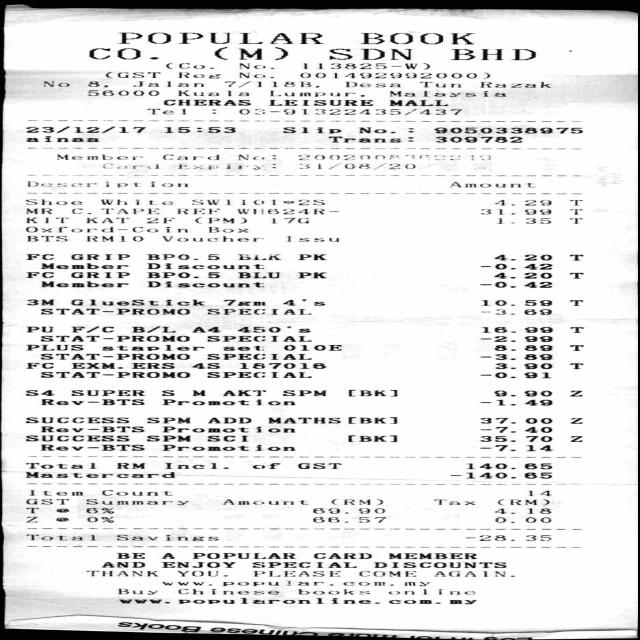text: (116, 32, 323, 44), (177, 598, 475, 604), (235, 108, 462, 115), (359, 32, 473, 44), (298, 72, 489, 79), (296, 154, 492, 160), (26, 181, 189, 188), (24, 226, 187, 233), (39, 308, 189, 315), (39, 335, 189, 342), (39, 353, 189, 360), (432, 127, 581, 134), (222, 581, 428, 586), (214, 46, 286, 60), (449, 49, 535, 60), (69, 299, 203, 306), (160, 426, 294, 433), (161, 444, 294, 451), (329, 49, 411, 60), (39, 372, 189, 378), (24, 472, 174, 478), (268, 417, 396, 424), (302, 63, 428, 70), (88, 48, 157, 60), (25, 126, 143, 133), (115, 534, 218, 542), (298, 163, 414, 170), (146, 281, 262, 288), (161, 399, 294, 405), (191, 199, 323, 205), (373, 562, 505, 568), (24, 435, 128, 442), (207, 308, 310, 315), (40, 426, 143, 433), (101, 344, 203, 351), (41, 444, 143, 451), (449, 472, 551, 479), (176, 588, 278, 595), (388, 91, 504, 97), (146, 263, 262, 269), (176, 163, 274, 170), (268, 90, 364, 97), (223, 81, 318, 88), (267, 100, 372, 106), (24, 417, 128, 423), (190, 553, 294, 559), (251, 562, 355, 568), (207, 336, 310, 342), (207, 354, 310, 360), (207, 372, 310, 378), (84, 499, 187, 505), (236, 208, 338, 214), (41, 399, 143, 405), (163, 99, 250, 106), (434, 136, 521, 143), (40, 281, 127, 288), (161, 236, 262, 242), (55, 154, 141, 161), (449, 181, 534, 188), (328, 136, 412, 143), (480, 444, 552, 452), (39, 263, 127, 269), (388, 553, 476, 559), (252, 570, 339, 576), (387, 589, 474, 595), (238, 363, 324, 369), (465, 463, 551, 469), (236, 326, 309, 333), (223, 499, 307, 505), (86, 570, 158, 577), (480, 399, 551, 406), (480, 417, 551, 424), (24, 462, 95, 469), (25, 534, 94, 541), (434, 571, 512, 577), (24, 136, 98, 142), (70, 390, 144, 396), (161, 562, 234, 568), (130, 81, 202, 87), (478, 82, 550, 88), (176, 90, 248, 96), (100, 199, 172, 205), (146, 254, 218, 260), (146, 272, 218, 278), (479, 354, 551, 360), (478, 372, 550, 378), (312, 517, 384, 523), (87, 90, 158, 96), (163, 127, 234, 133), (480, 327, 551, 333), (480, 336, 551, 342), (480, 436, 551, 442), (100, 490, 171, 496), (297, 588, 368, 594), (480, 209, 550, 215), (480, 309, 550, 315), (481, 300, 550, 306), (282, 127, 340, 134), (492, 254, 550, 261), (493, 272, 551, 279), (492, 390, 550, 397), (312, 552, 370, 559), (25, 344, 82, 351), (164, 62, 213, 70), (494, 199, 550, 206), (86, 235, 142, 242), (98, 163, 162, 169), (163, 463, 227, 469), (345, 81, 399, 88), (193, 217, 246, 224), (388, 100, 448, 106), (176, 570, 226, 577), (70, 254, 128, 260), (70, 272, 128, 278), (493, 345, 551, 351), (24, 199, 81, 205), (494, 363, 551, 369), (493, 508, 550, 514), (358, 571, 415, 577), (284, 344, 340, 350), (348, 389, 396, 396), (348, 435, 396, 442), (494, 517, 550, 523), (105, 72, 159, 78), (358, 127, 412, 133), (163, 154, 217, 160), (496, 218, 550, 224), (105, 208, 158, 214), (329, 499, 382, 505), (286, 236, 338, 242), (70, 363, 122, 369), (29, 490, 81, 496), (130, 326, 174, 333), (146, 417, 190, 424), (146, 435, 190, 442), (497, 499, 548, 505), (207, 417, 250, 424), (282, 299, 324, 306), (71, 326, 113, 333), (178, 72, 219, 79), (419, 81, 460, 88), (206, 226, 247, 233), (206, 435, 247, 442), (26, 235, 66, 242), (116, 588, 156, 595), (146, 108, 184, 115), (236, 254, 280, 260), (220, 390, 264, 396), (100, 562, 144, 568), (117, 599, 169, 604), (25, 498, 68, 504), (25, 217, 67, 223), (478, 281, 514, 288), (222, 300, 264, 306), (298, 463, 340, 469), (177, 208, 218, 214), (86, 218, 127, 224), (237, 272, 278, 278), (433, 499, 474, 505), (464, 535, 505, 541), (134, 363, 174, 369), (480, 263, 514, 270), (480, 426, 514, 433), (236, 154, 275, 160), (223, 345, 262, 351), (270, 218, 308, 224), (281, 391, 325, 396), (312, 508, 348, 514), (190, 326, 220, 333), (239, 63, 273, 69), (239, 72, 273, 78), (116, 462, 144, 469), (85, 507, 113, 514), (116, 552, 144, 559), (162, 582, 210, 586), (146, 217, 173, 224), (525, 263, 551, 270), (26, 326, 52, 333), (26, 362, 52, 369), (86, 516, 112, 523), (296, 272, 326, 278), (296, 254, 325, 260), (25, 254, 53, 260), (25, 272, 53, 278), (26, 300, 54, 306), (191, 363, 219, 369), (25, 390, 53, 396), (527, 426, 551, 433), (251, 463, 279, 469), (357, 508, 384, 514), (42, 81, 68, 87), (24, 208, 50, 214), (524, 535, 550, 541), (527, 282, 551, 288), (528, 490, 550, 496), (87, 81, 107, 87), (71, 208, 90, 214), (160, 552, 174, 559), (569, 254, 582, 261), (569, 272, 582, 279), (24, 516, 37, 523), (568, 327, 583, 333), (568, 345, 583, 351), (569, 300, 582, 306), (569, 363, 582, 369), (160, 390, 173, 396), (191, 390, 204, 396), (26, 508, 38, 514), (54, 508, 68, 513), (570, 200, 581, 206), (570, 209, 581, 215), (570, 218, 581, 224), (570, 418, 581, 424), (570, 436, 581, 442), (55, 517, 67, 522), (570, 391, 581, 396), (211, 109, 215, 114)
